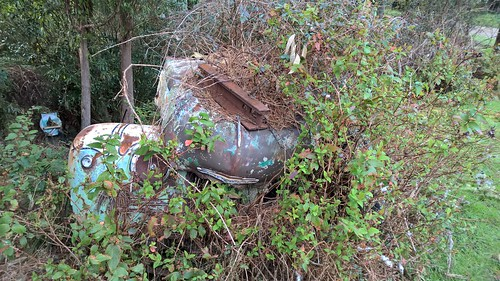trash: (92, 11, 411, 271)
vegetation: (1, 1, 496, 281)
